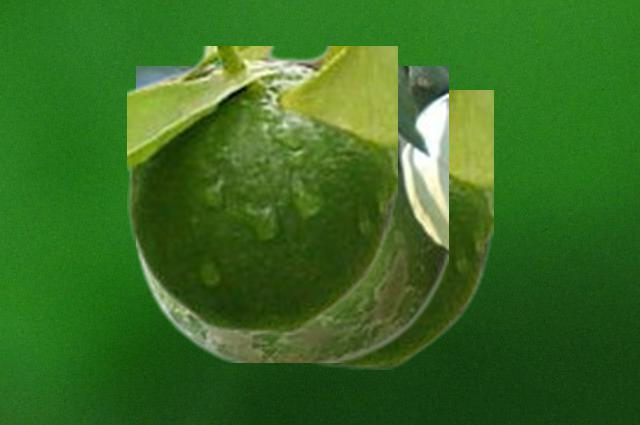dalandan: (136, 66, 447, 361), (127, 46, 396, 333), (302, 90, 492, 368)
